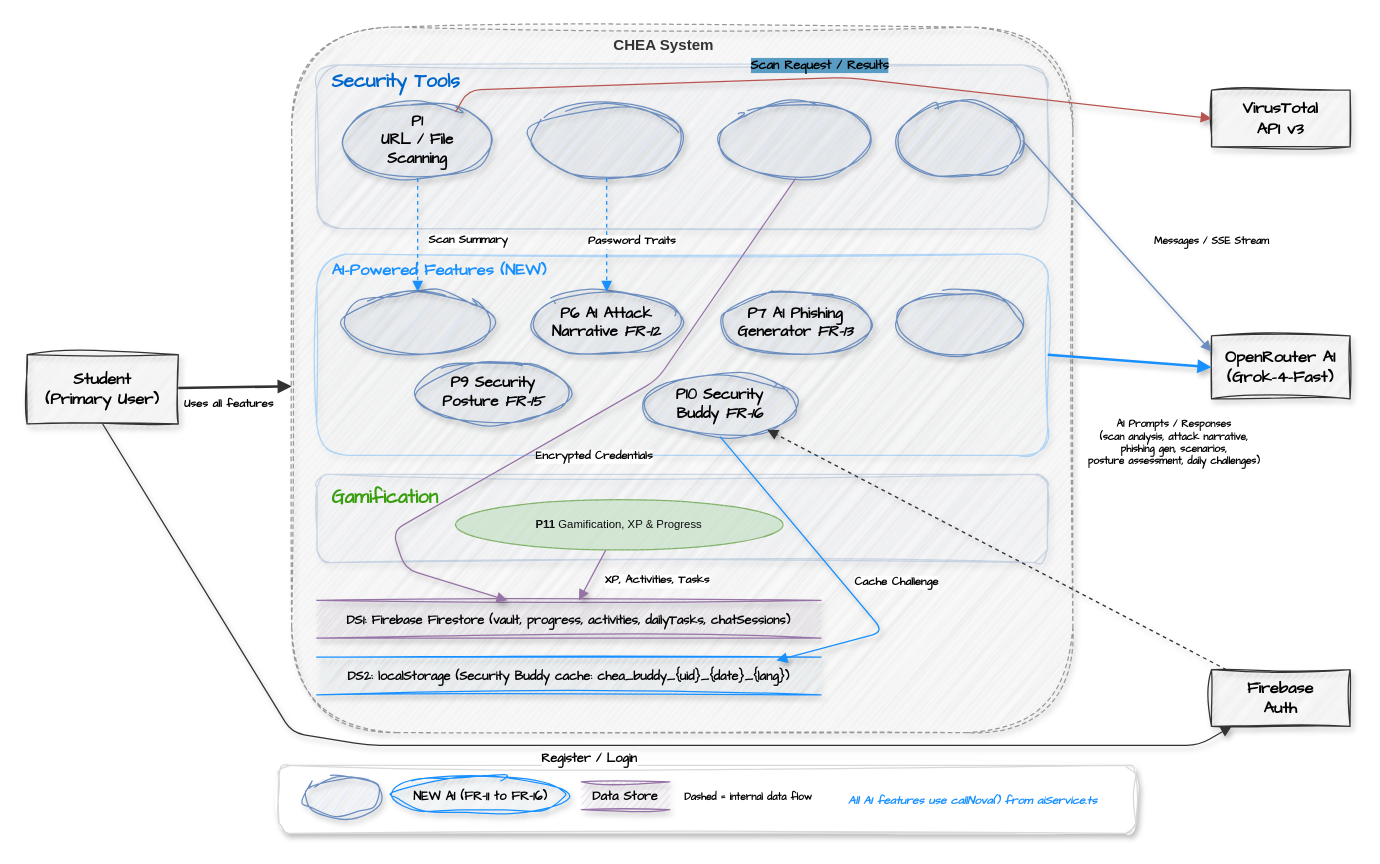
Image size: 1380x864. Some labels were removed from this diagram. Here are the shapes that lost their labels. From the top down, the centre of each, then its label:
point (607, 141): P2 Password Tools
point (796, 141): P3 Encryption & Vault
point (960, 141): P4 AI Chat (FR-06)
point (418, 324): P5 AI Scan Analysis FR-11
point (960, 324): P8 Scenario Simulator FR-14
point (342, 798): Original
